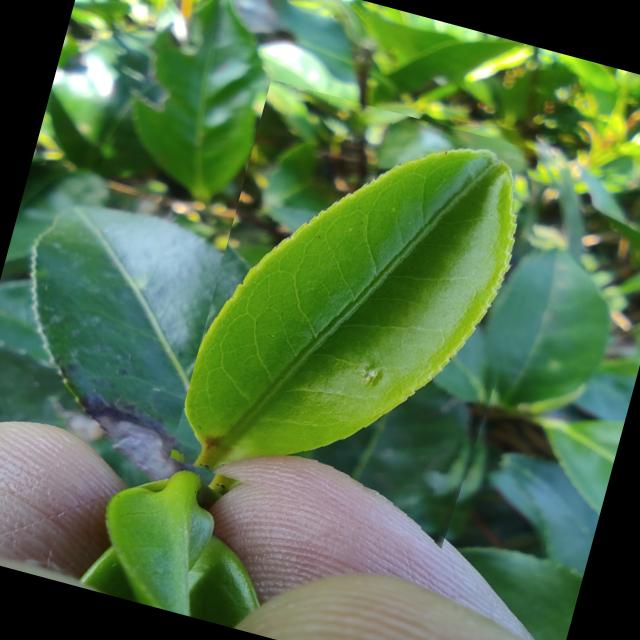Category C 4-7 days: (165, 79, 567, 554)
